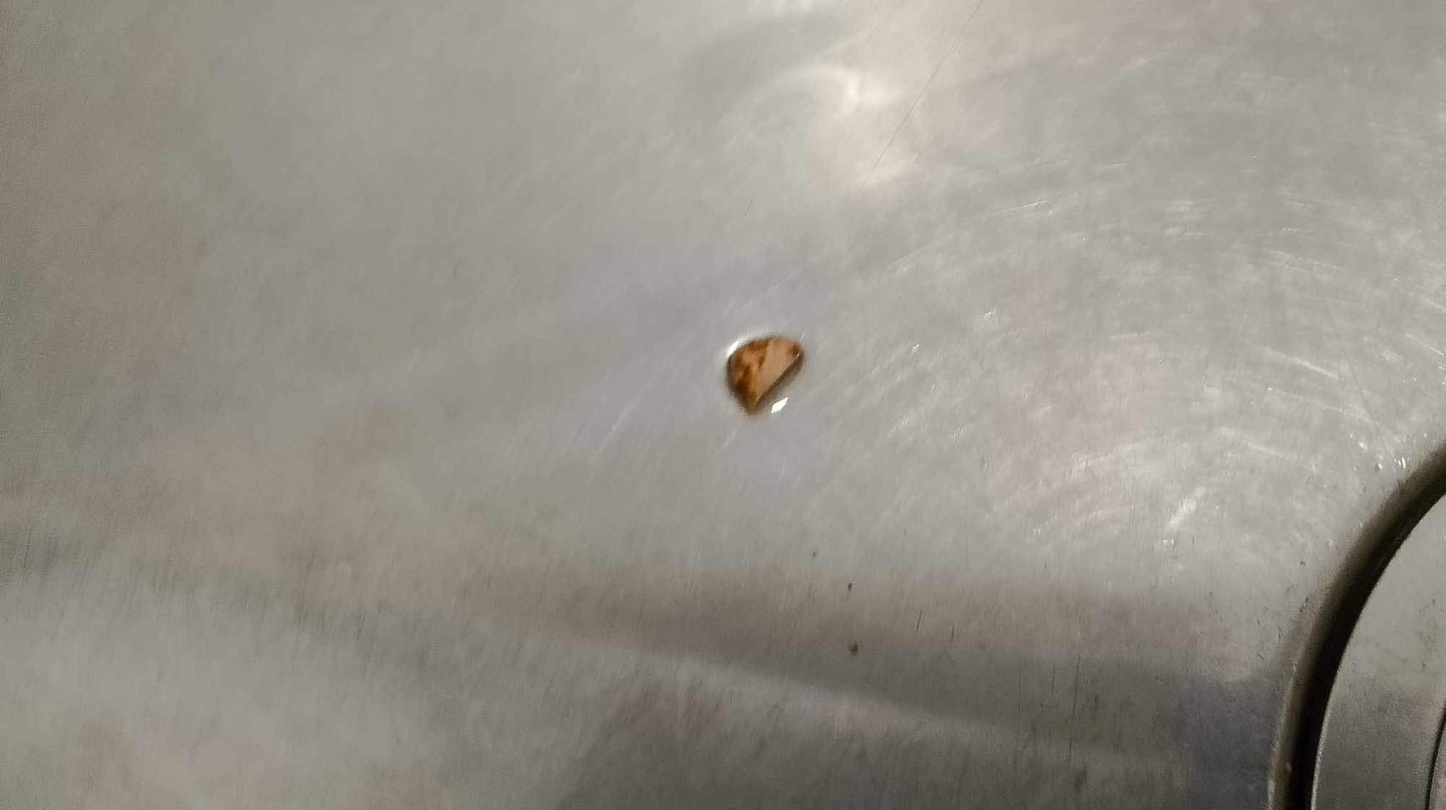General: (4, 3, 1439, 806)
Infectious: (724, 333, 803, 414)
Sharps: (853, 1, 989, 192)
